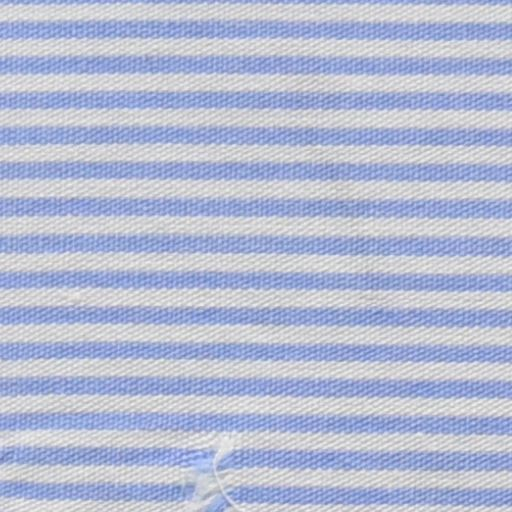defect: (196, 432, 255, 512)
